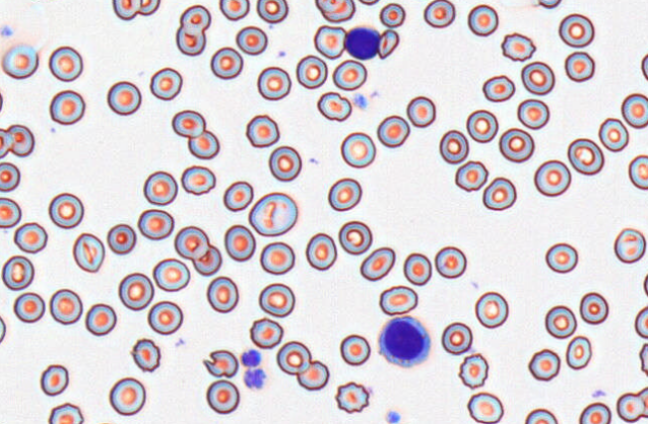LYM: (375, 315, 432, 371), (345, 24, 380, 61)
PLT: (242, 367, 265, 389), (240, 350, 261, 366), (384, 410, 402, 424), (355, 93, 369, 109)
RBC: (248, 192, 297, 236), (108, 376, 146, 416), (533, 159, 571, 196), (567, 137, 604, 175), (118, 272, 154, 310), (340, 131, 376, 168), (152, 257, 190, 292), (72, 232, 105, 272), (48, 192, 84, 228), (49, 89, 85, 125), (258, 282, 295, 317), (2, 44, 38, 79), (147, 300, 183, 335), (498, 127, 534, 162), (359, 246, 395, 281), (48, 45, 83, 81), (474, 291, 508, 328), (276, 340, 311, 375), (174, 225, 209, 260), (106, 80, 141, 115), (558, 13, 594, 47), (268, 145, 302, 181), (259, 241, 295, 275), (305, 232, 337, 270), (206, 275, 238, 313), (378, 285, 418, 315), (205, 379, 239, 414), (327, 177, 362, 211), (143, 170, 177, 205), (1, 254, 34, 290), (49, 288, 82, 324), (613, 227, 646, 263), (223, 224, 255, 261), (137, 208, 174, 240), (520, 61, 554, 95), (257, 66, 291, 100), (482, 176, 516, 210), (338, 220, 372, 254), (334, 381, 370, 413), (467, 391, 503, 423), (457, 352, 488, 389), (245, 114, 279, 147), (544, 304, 577, 338), (376, 114, 410, 147), (210, 46, 243, 79), (149, 67, 182, 100), (84, 302, 116, 336), (249, 317, 283, 349), (466, 109, 498, 143), (13, 221, 47, 253), (296, 54, 327, 89), (332, 59, 367, 90), (598, 117, 629, 152), (528, 348, 560, 381), (434, 245, 466, 278), (454, 160, 488, 191), (441, 321, 472, 355), (130, 337, 160, 372), (439, 129, 469, 164), (180, 165, 215, 195), (13, 291, 45, 323), (296, 359, 329, 390), (191, 243, 222, 276), (339, 333, 370, 366), (545, 242, 578, 273), (500, 32, 535, 61), (467, 4, 498, 36), (517, 98, 549, 129), (171, 109, 205, 138), (175, 25, 206, 56), (187, 129, 219, 159), (235, 25, 267, 55), (5, 123, 34, 156), (403, 252, 432, 285), (579, 291, 608, 324), (565, 335, 592, 370), (621, 93, 648, 128), (223, 180, 253, 211), (106, 223, 136, 254), (564, 51, 594, 82), (40, 364, 69, 396), (406, 95, 435, 127), (482, 74, 515, 102), (314, 0, 355, 22), (179, 4, 211, 32), (423, 0, 455, 28), (47, 402, 84, 424), (256, 0, 288, 23), (628, 154, 648, 190), (578, 402, 611, 423), (0, 197, 21, 228), (379, 2, 405, 27), (219, 0, 249, 20), (0, 161, 20, 191), (112, 0, 139, 20), (524, 408, 558, 423), (634, 305, 648, 339), (636, 386, 648, 417), (0, 127, 12, 158), (638, 342, 648, 377), (137, 0, 160, 15), (536, 0, 562, 8), (641, 52, 648, 81), (0, 314, 6, 344), (643, 270, 648, 298), (358, 0, 380, 5), (92, 421, 119, 424), (0, 88, 3, 114)
Schistocyte: (313, 23, 346, 60), (316, 92, 355, 123), (202, 350, 240, 378), (378, 28, 399, 59)
